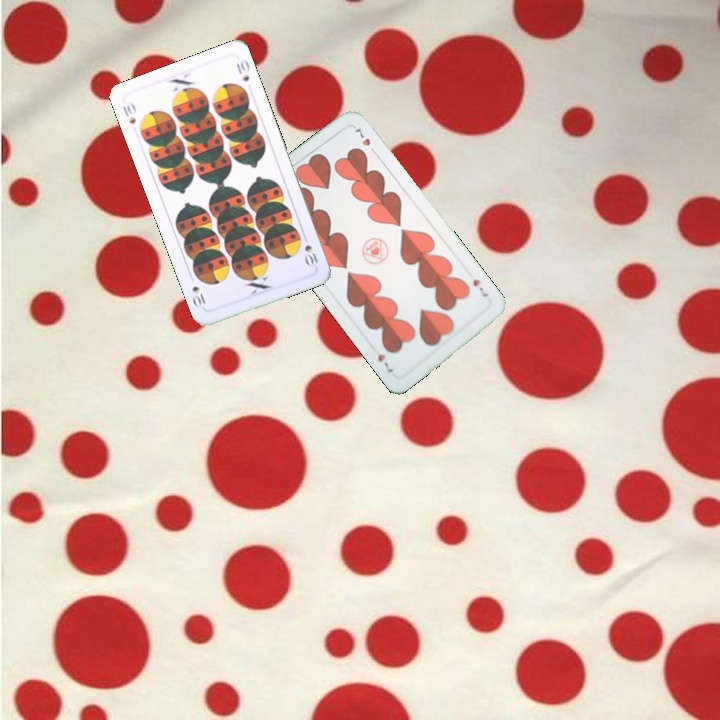H7: (469, 275, 491, 300)
S10: (300, 241, 321, 270), (118, 98, 138, 127)
